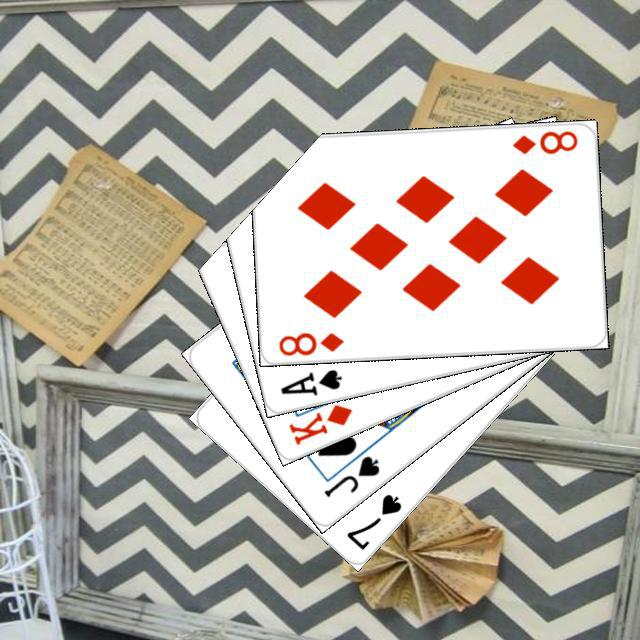7s: (341, 488, 404, 552)
8d: (508, 125, 579, 156), (274, 327, 345, 357)
As: (275, 364, 344, 398)
Js: (319, 450, 382, 499)
Kd: (283, 399, 354, 447)
